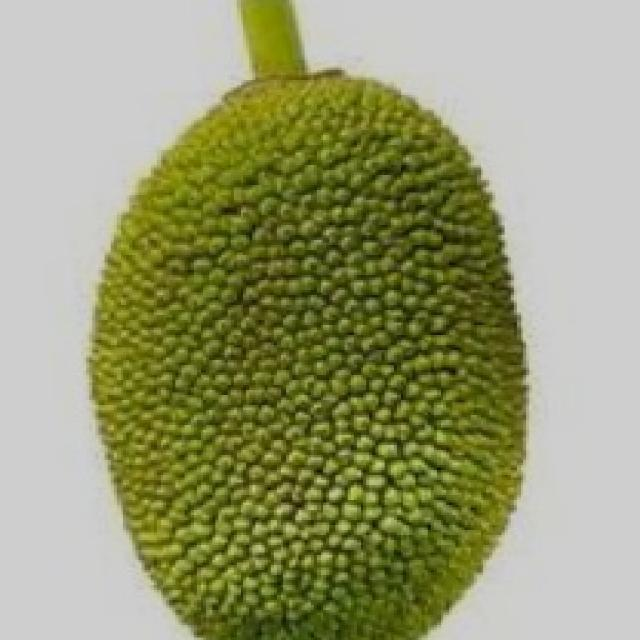Fruit: (280, 252, 578, 640), (126, 37, 554, 305)
